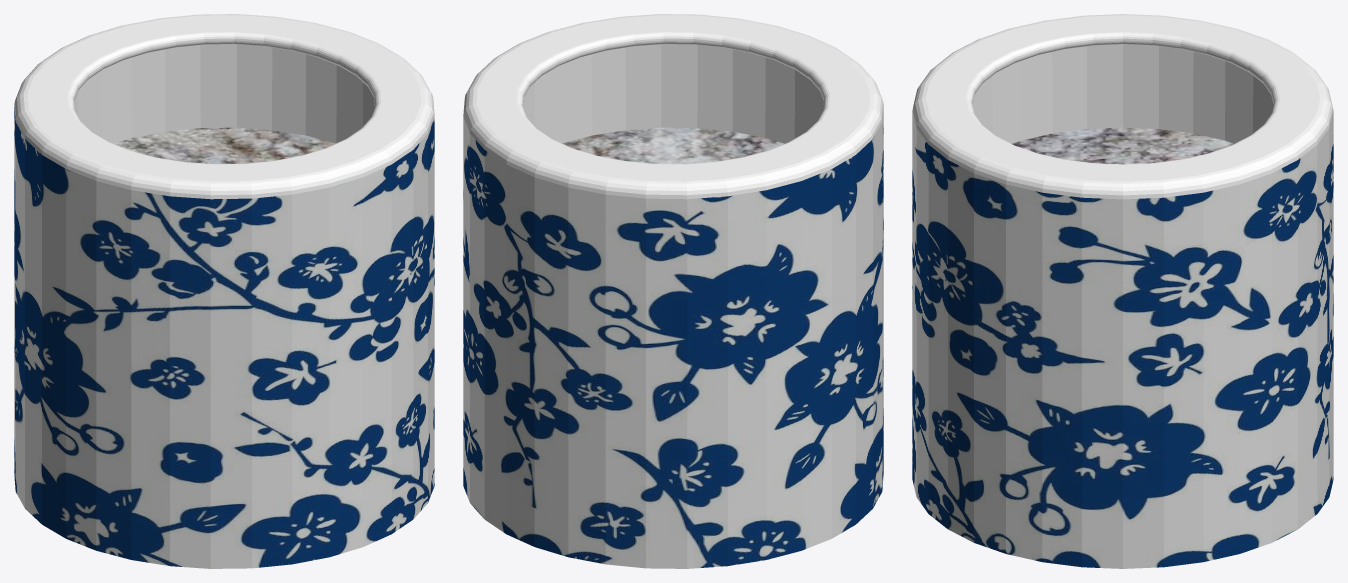
Rendered from censer.fbx.
3 views of the same model, side by side, from view 1: azimuth 30°, elevation 25°; view 2: azimuth 150°, elevation 25°; view 3: azimuth 270°, elevation 25° (orthographic).
Parts seen in each view (by area): view 1: Cylinder; view 2: Cylinder; view 3: Cylinder.
Part boxes in pixels (box(x1,y1,x2,y2)): Cylinder: box(14, 14, 434, 568); Cylinder: box(463, 14, 883, 568); Cylinder: box(912, 14, 1333, 568).
Bounding box in the file's own units: 200 × 200 × 200.
2 materials, 2 textured.
